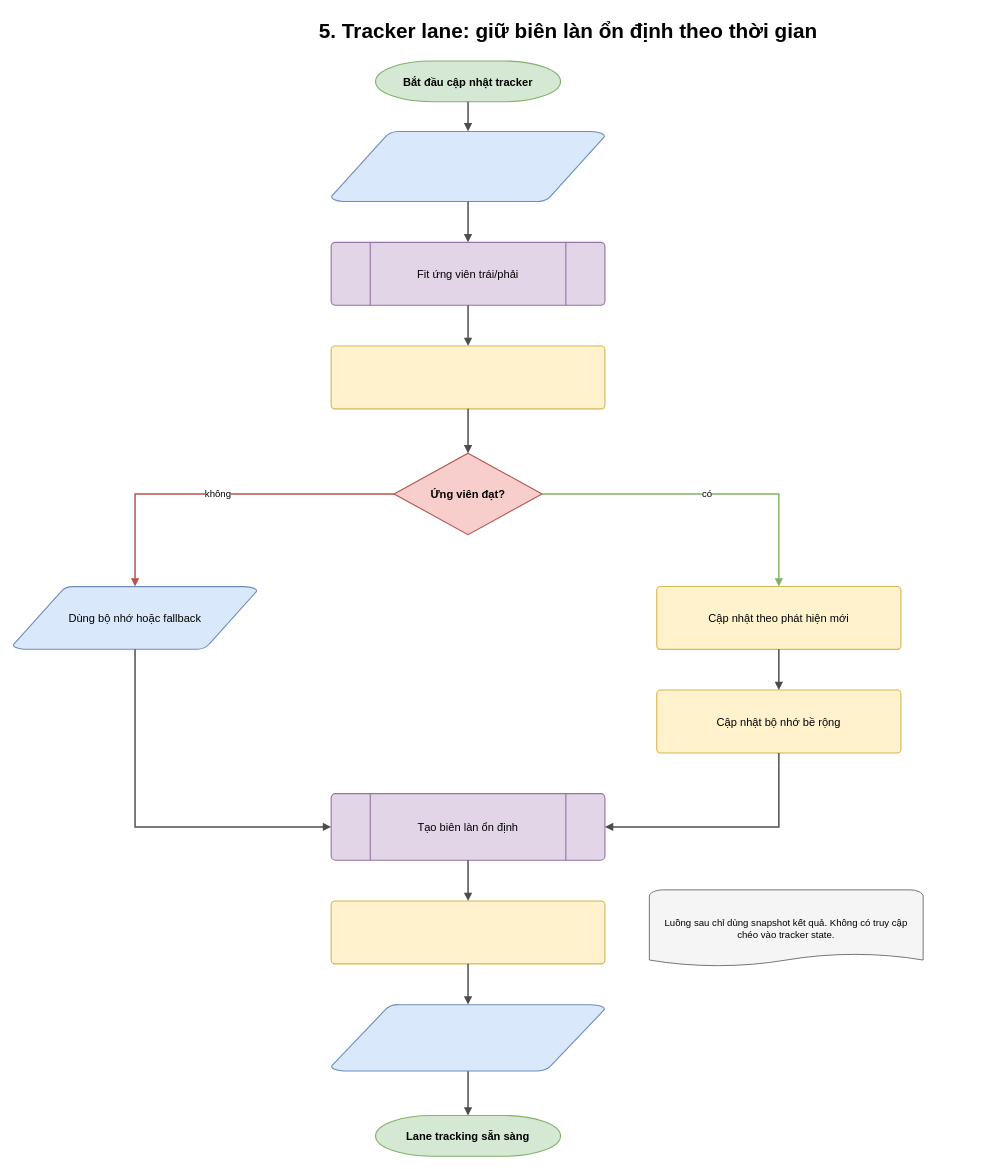
The diagram is 995 pixels wide and 1169 high, and some of its shapes have lost their labels. The box of each missing label's shape, as (x1, y1, x2, y2) in pixels:
Cập nhật độ tin cậy: (330, 900, 605, 964)
Nhận biên làn hiện tại và state frame trước: (330, 130, 605, 202)
Xuất biên làn đã track: (330, 1004, 605, 1071)
Đánh giá chất lượng ứng viên: (330, 345, 605, 409)
